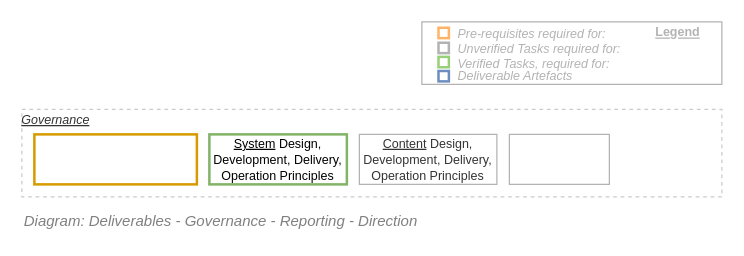
Image size: 744x256. Some labels were removed from this diagram. The centre of each missing label's shape, as x and y in pixels:
"Agreed Purpose, Approach, Risks Constraints & Resolution Paths" goes at (x=115, y=158).
"Context, Partners Stakeholders, Roles" goes at (x=558, y=158).
